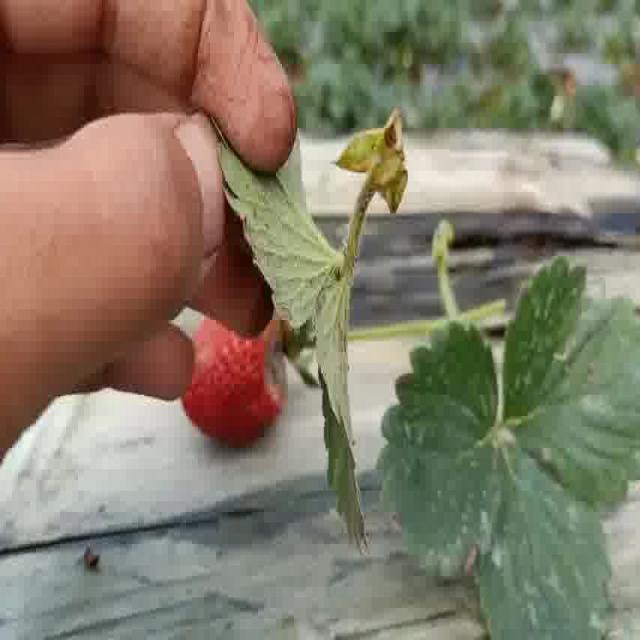Mancha negra Antracnosis: (174, 268, 298, 454)
